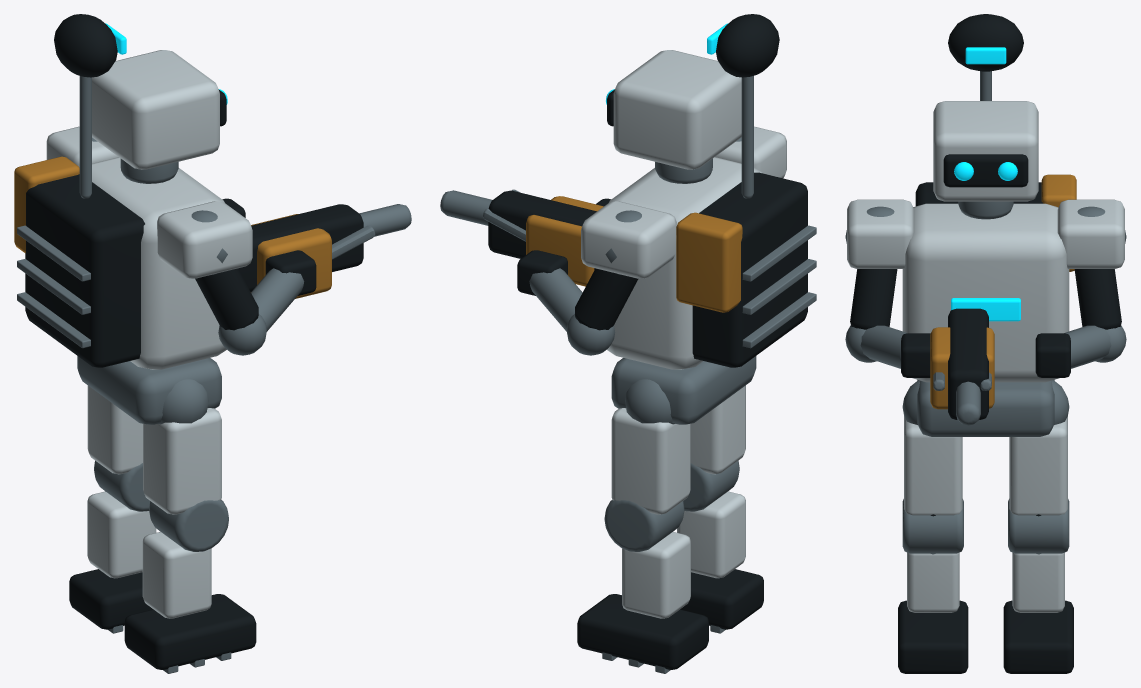
Rendered from robot-library.glb.
3 views of the same model, side by side, from view 1: azimuth 30°, elevation 25°; view 2: azimuth 150°, elevation 25°; view 3: azimuth 270°, elevation 25° (orthographic). The views are drawn at different scales.
Parts seen in each view (by area): view 1: 电池背包.001, 光电传感器头部.001, 密封胸部机舱.001, 大腿装甲.002, 月表足底.002, 肩部护甲.002, 骨盆承力框架.001, 小腿防尘护甲.002, 小腿防尘护甲.003, 脉冲电容武器, 大腿装甲.003, 月表足底.003 (+18 smaller); view 2: 光电传感器头部.001, 电池背包.001, 密封胸部机舱.001, 大腿装甲.003, 月表足底.003, 接管通信终端, 肩部护甲.003, 骨盆承力框架.001, 小腿防尘护甲.003, 小腿防尘护甲.002, 大腿装甲.002, 月表足底.002 (+17 smaller); view 3: 密封胸部机舱.001, 光电传感器头部.001, 骨盆承力框架.001, 大腿装甲.002, 大腿装甲.003, 月表足底.002, 月表足底.003, 肩部护甲.002, 肩部护甲.003, 脉冲电容武器, 小腿防尘护甲.002, 小腿防尘护甲.003 (+21 smaller).
Part boxes in pixels (x1,y1,x2,y2): 电池背包.001: (25,174,144,367); 光电传感器头部.001: (92,50,219,169); 密封胸部机舱.001: (79,157,226,369); 大腿装甲.002: (143,408,221,514); 月表足底.002: (124,594,256,669); 肩部护甲.002: (157,201,252,278); 骨盆承力框架.001: (77,356,221,424); 小腿防尘护甲.002: (142,532,211,618); 小腿防尘护甲.003: (87,491,156,578); 脉冲电容武器: (238,204,363,291); 大腿装甲.003: (87,385,142,474); 月表足底.003: (69,569,153,629); 光电传感器头部.001: (613,50,741,169); 电池背包.001: (692,172,807,367); 密封胸部机舱.001: (607,157,762,369); 大腿装甲.003: (611,408,690,514); 月表足底.003: (577,594,708,669); 接管通信终端: (676,212,742,312); 肩部护甲.003: (581,201,676,278); 骨盆承力框架.001: (611,356,756,424); 小腿防尘护甲.003: (622,532,690,618); 小腿防尘护甲.002: (677,491,745,578); 大腿装甲.002: (690,385,745,474); 月表足底.002: (680,569,763,629); 密封胸部机舱.001: (902,203,1069,382); 光电传感器头部.001: (933,101,1038,201); 骨盆承力框架.001: (917,379,1054,436); 大腿装甲.002: (904,416,962,515); 大腿装甲.003: (1009,416,1067,515); 月表足底.002: (898,600,968,673); 月表足底.003: (1003,600,1073,673); 肩部护甲.002: (847,199,914,268); 肩部护甲.003: (1057,199,1124,268); 脉冲电容武器: (948,308,988,419); 小腿防尘护甲.002: (907,552,959,612); 小腿防尘护甲.003: (1012,552,1064,612).
Bounding box in the file's own units: 1.32 × 2.28 × 0.96.
